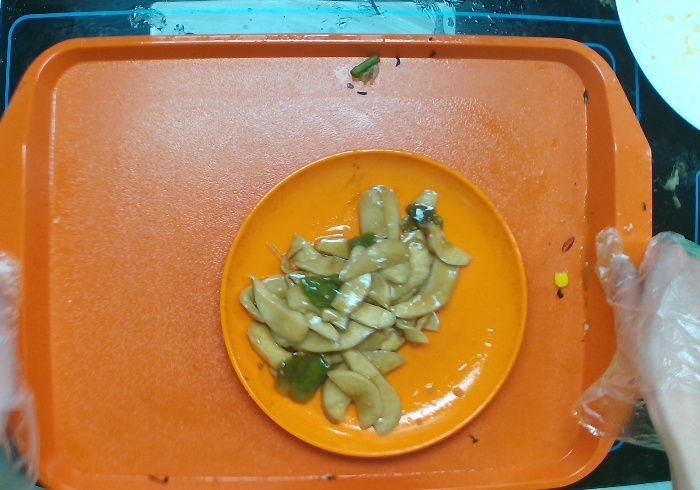HZYJPL-Ju_Huang_Yuan_Pan: (209, 138, 539, 464)
